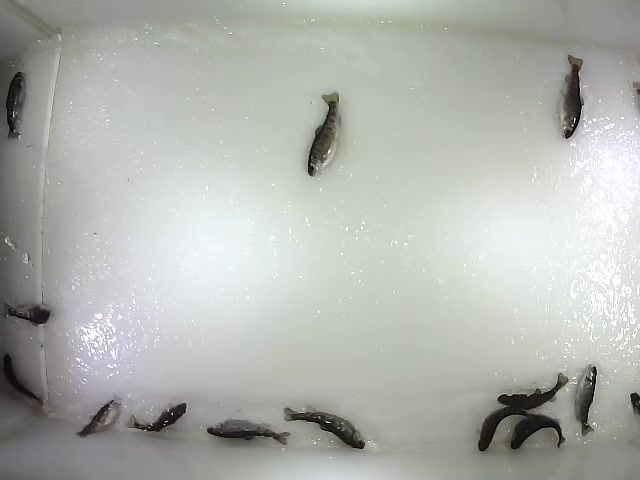fish: (282, 403, 367, 450), (305, 90, 343, 178), (496, 371, 570, 412), (477, 406, 537, 453), (556, 52, 587, 141), (205, 417, 293, 447), (2, 352, 47, 409), (509, 412, 567, 450), (572, 363, 598, 437), (125, 402, 189, 432), (4, 71, 29, 143), (75, 399, 117, 439), (1, 299, 54, 327)
